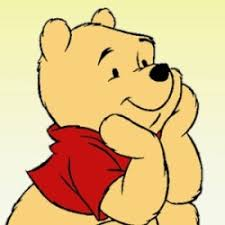Winnie: (21, 7, 207, 187)
